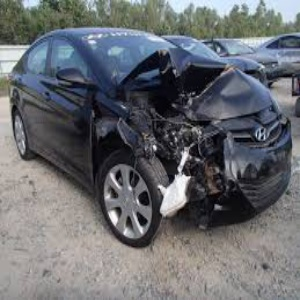bonnet: (149, 49, 278, 117)
bumper: (178, 135, 293, 225)
